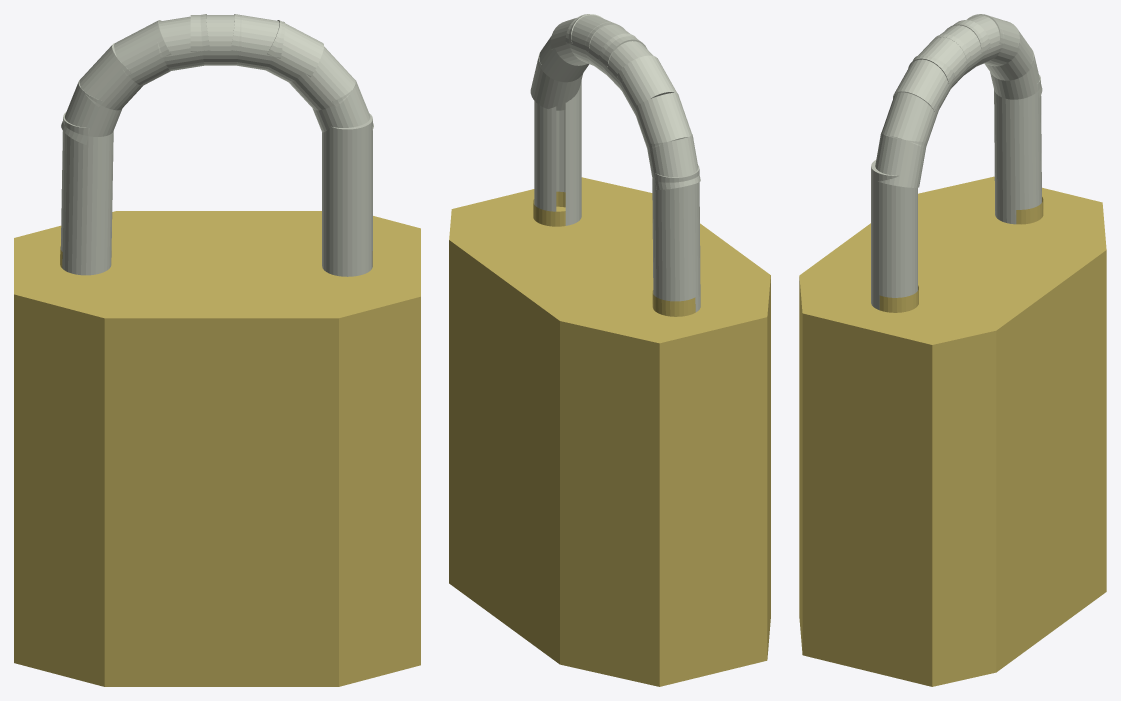
Rendered from Padlock2.fbx.
3 renders of one model, left to right at view 1: azimuth 30°, elevation 25°; view 2: azimuth 150°, elevation 25°; view 3: azimuth 270°, elevation 25°, orthographic. The views are drawn at different scales.
Parts seen in each view (by area): view 1: Cylinder.012, Cylinder.001; view 2: Cylinder.012, Cylinder.001; view 3: Cylinder.012, Cylinder.001.
Boxes of the visible parts, x1,y1,x2,y2 form: Cylinder.012: (14,211,420,686); Cylinder.001: (60,14,373,276); Cylinder.012: (449,177,770,686); Cylinder.001: (530,14,700,312); Cylinder.012: (799,176,1106,686); Cylinder.001: (871,14,1042,310).
Size of the model in its own units: 1.69 by 2.68 by 1.3.
